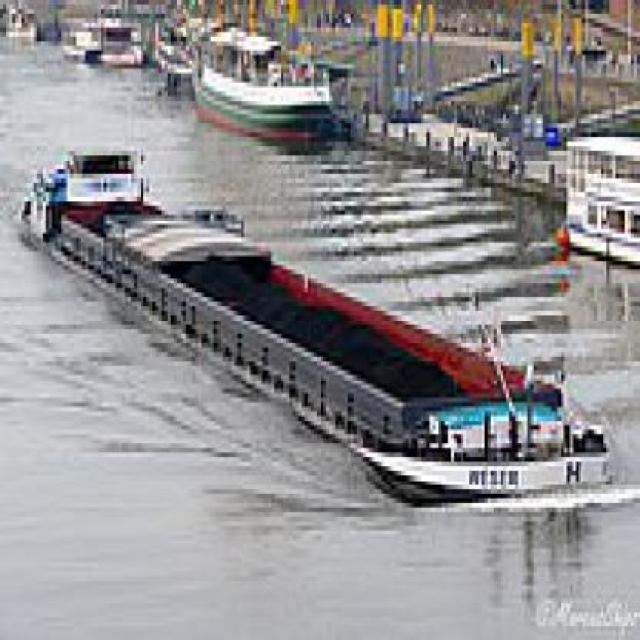container: (13, 129, 626, 518)
